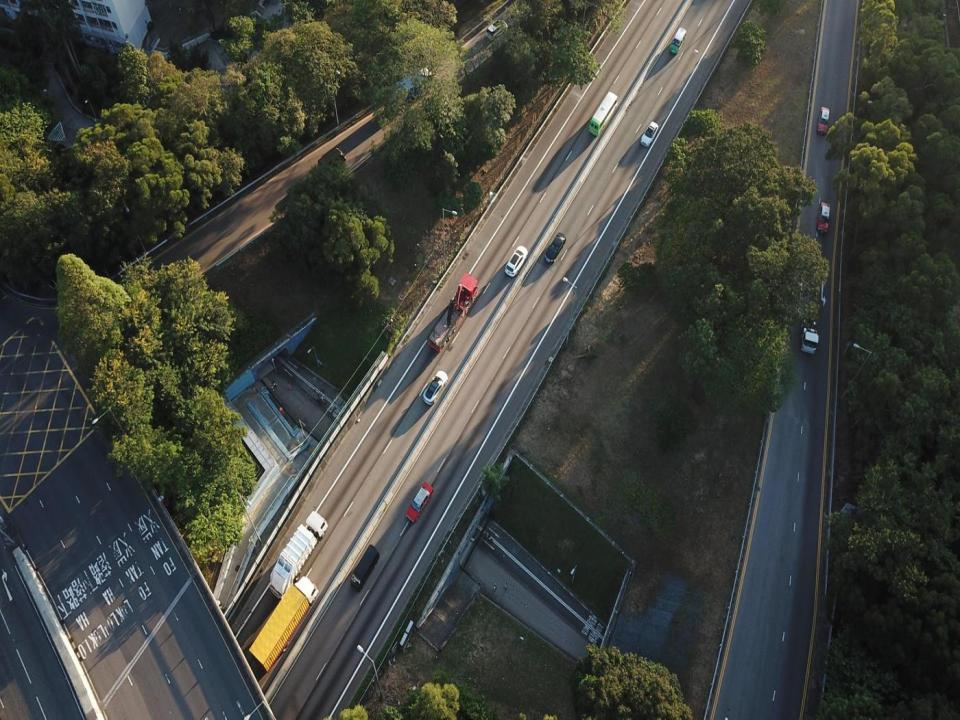bus: (590, 92, 618, 136)
car: (405, 481, 433, 524), (423, 370, 448, 406), (504, 245, 527, 277), (544, 231, 566, 262), (641, 121, 658, 149), (816, 202, 830, 234), (816, 106, 830, 135)
truck: (249, 577, 317, 668), (270, 511, 326, 600), (427, 272, 479, 353), (387, 65, 435, 104), (801, 300, 819, 354)
van: (350, 544, 379, 592), (669, 27, 687, 54), (486, 19, 508, 41)
